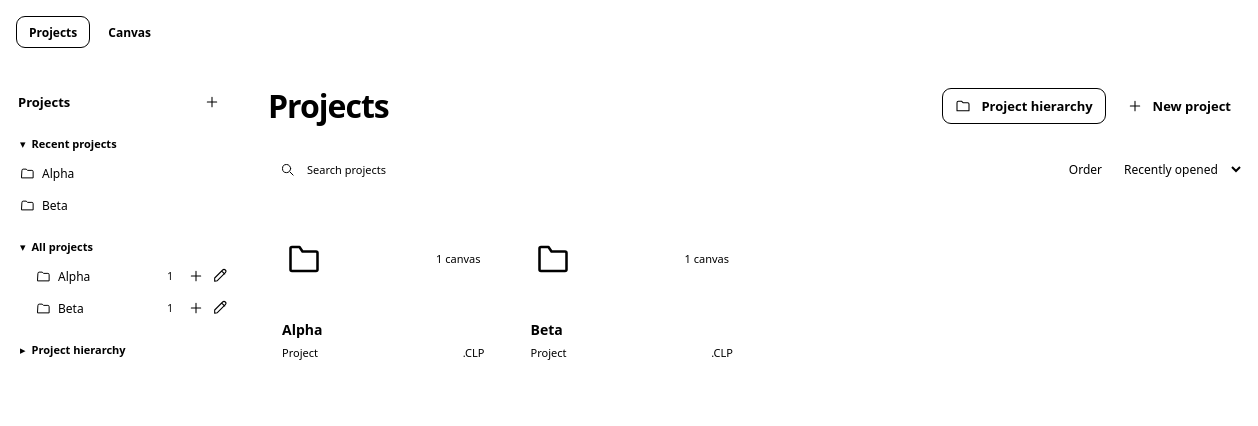
it: native Home catalog and recovery › renders accurate project counts without downloading document bodies and loads real thumbnails when switching to Canvas
Expected: the 1st text "1 canvas" is shown, [436, 251, 480, 266]
Click the button "Canvas". click: [130, 32]
box: [95, 16, 164, 48]
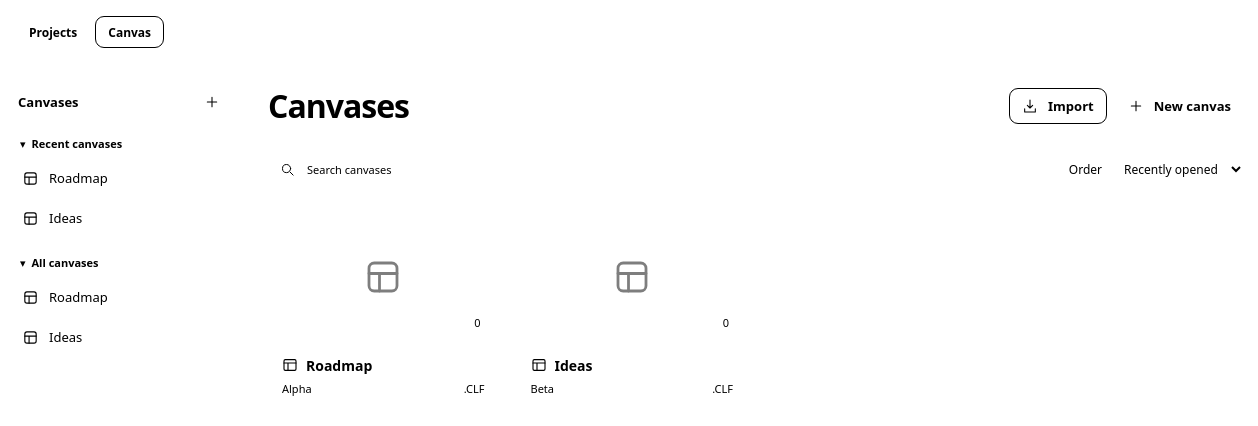
Now the button with aria-label "Open canvas Roadmap in Alpha" is shown, box [268, 212, 498, 410]
Now the button with aria-label "Open canvas Ideas in Beta" is shown, box [516, 212, 747, 410]
